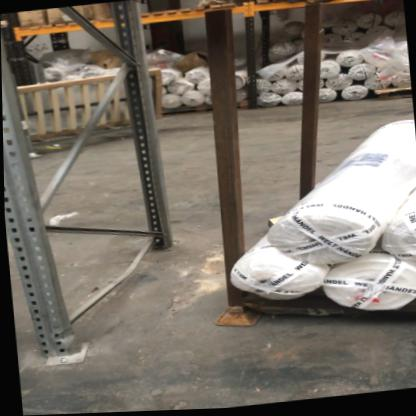vertical_damage: (32, 313, 98, 373)
